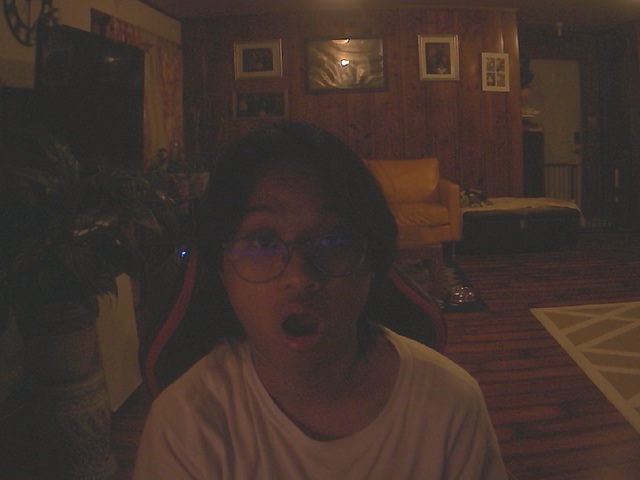fear: (203, 128, 399, 381)
